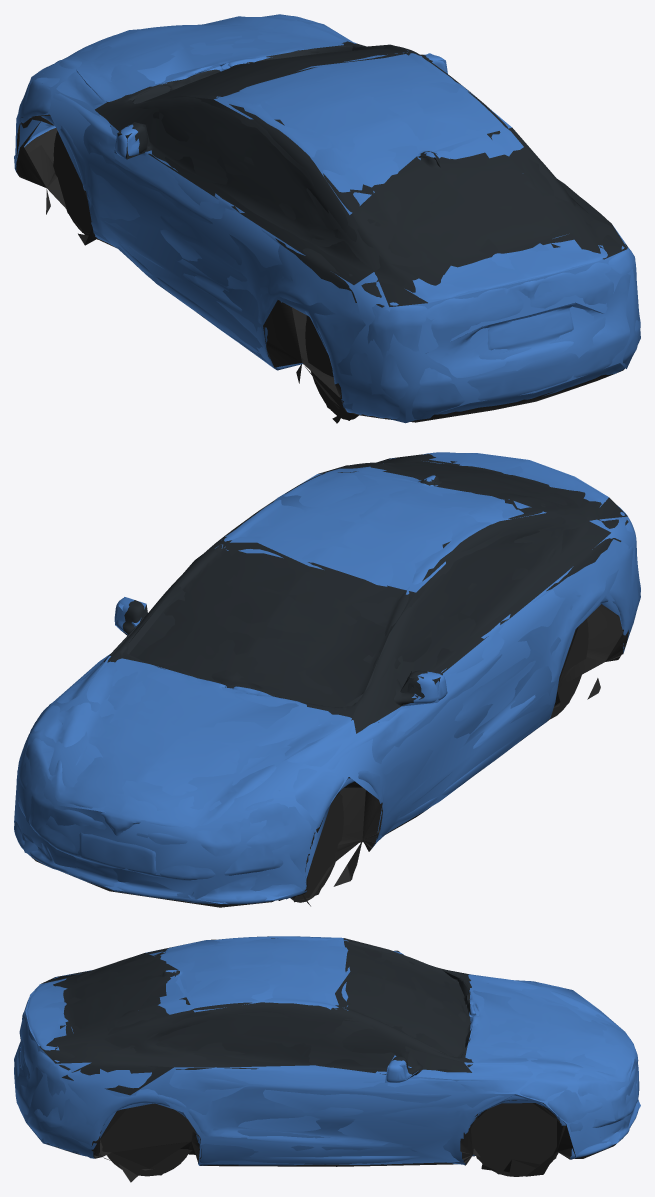
Rendered from tesla-model-s.glb.
The picture shows the model from 3 angles, top to bottom: view 1: azimuth 30°, elevation 25°; view 2: azimuth 150°, elevation 25°; view 3: azimuth 270°, elevation 25°; orthographic projection. The views are drawn at different scales.
Parts seen in each view (by area): view 1: body, far; view 2: body, far; view 3: body, far.
Boxes of the visible parts, box(x1,y1,x2,y2) form: body: box(14, 15, 640, 422); far: box(14, 14, 640, 423); body: box(14, 452, 640, 907); far: box(14, 453, 640, 906); body: box(14, 936, 639, 1177); far: box(14, 936, 640, 1182).
Size of the model in its own units: 2.25 by 1.53 by 5.04.
